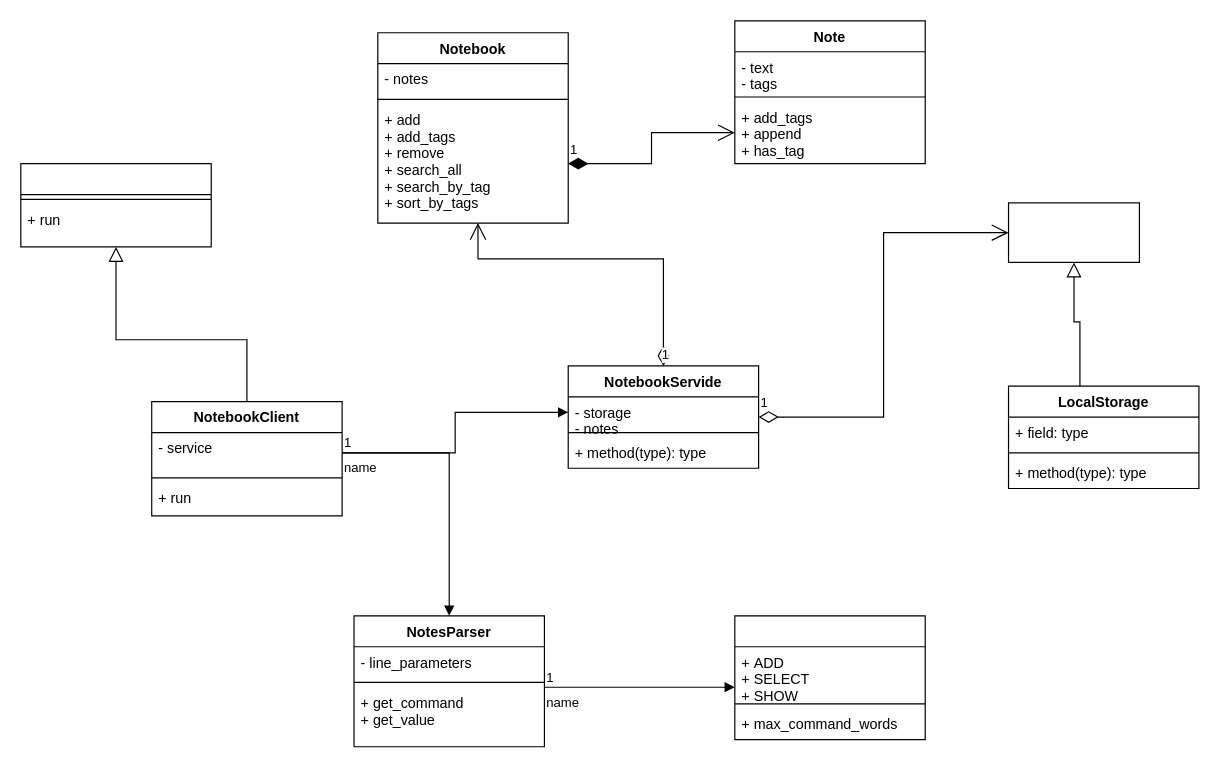
Image size: 1220x771. Some labels were removed from this diagram. Each missing label, with the box of its shape:
Client: (20, 162, 211, 247)
NotesCommand: (734, 615, 925, 740)
«interface» Storage: (1007, 202, 1139, 262)
